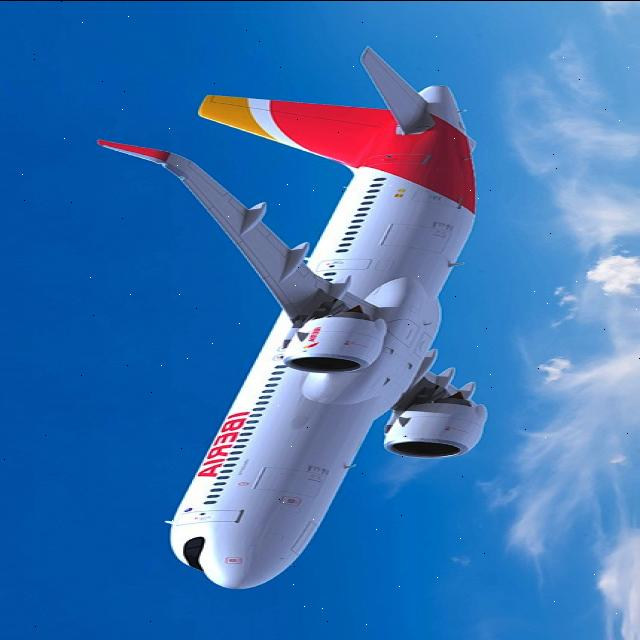aircraft: (60, 25, 636, 593)
